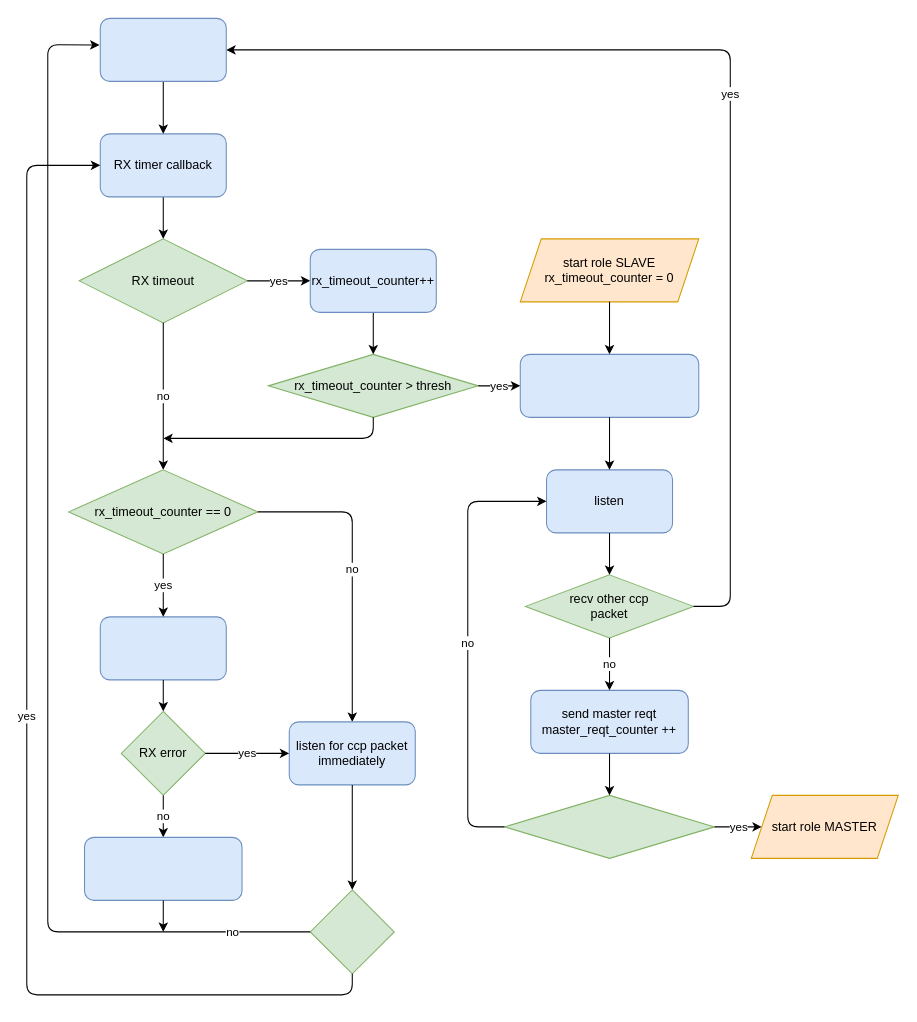
The diagram is 917 pixels wide and 1022 high, and some of its shapes have lost their labels. Each missing label, with the box of its shape:
listen for ccp packet at caculated time: (99, 616, 226, 680)
master_reqt_counter = 0: (519, 353, 699, 417)
master_reqt_counter > thresh: (503, 794, 715, 858)
RX timer wait: (99, 17, 226, 81)
rx_timeout_counter = 0: (83, 836, 242, 900)
timeout: (309, 889, 394, 974)
